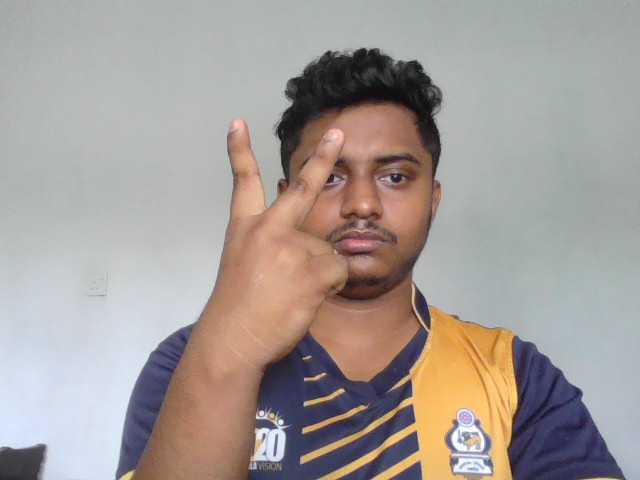See You: (203, 118, 348, 361)
